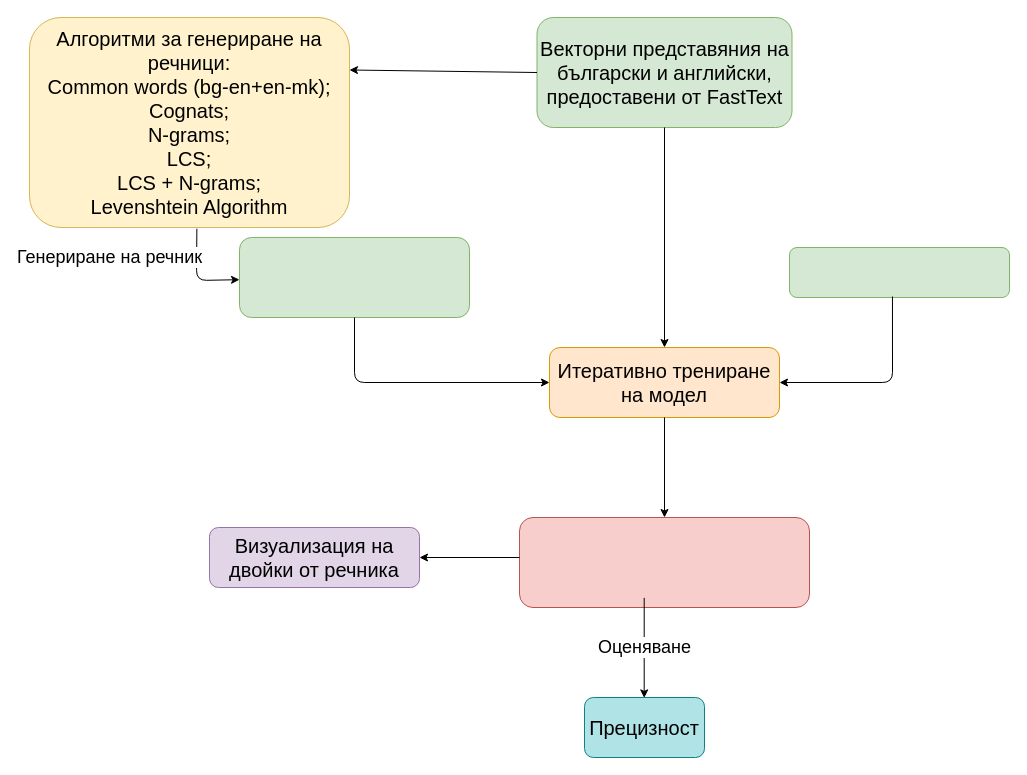
The diagram is 1027 pixels wide and 775 high, and some of its shapes have lost their labels. The shapes that lost their labels are listed below. From the top down, each one's box as (x1, y1, x2, y2) in pixels, then its label:
(238, 236, 470, 318): Генериран речник български - македонски
(788, 246, 1010, 298): Хиперпараметри на алгоритъма
(518, 516, 810, 608): Натрениран модел - векторни пространства на български и македонски
